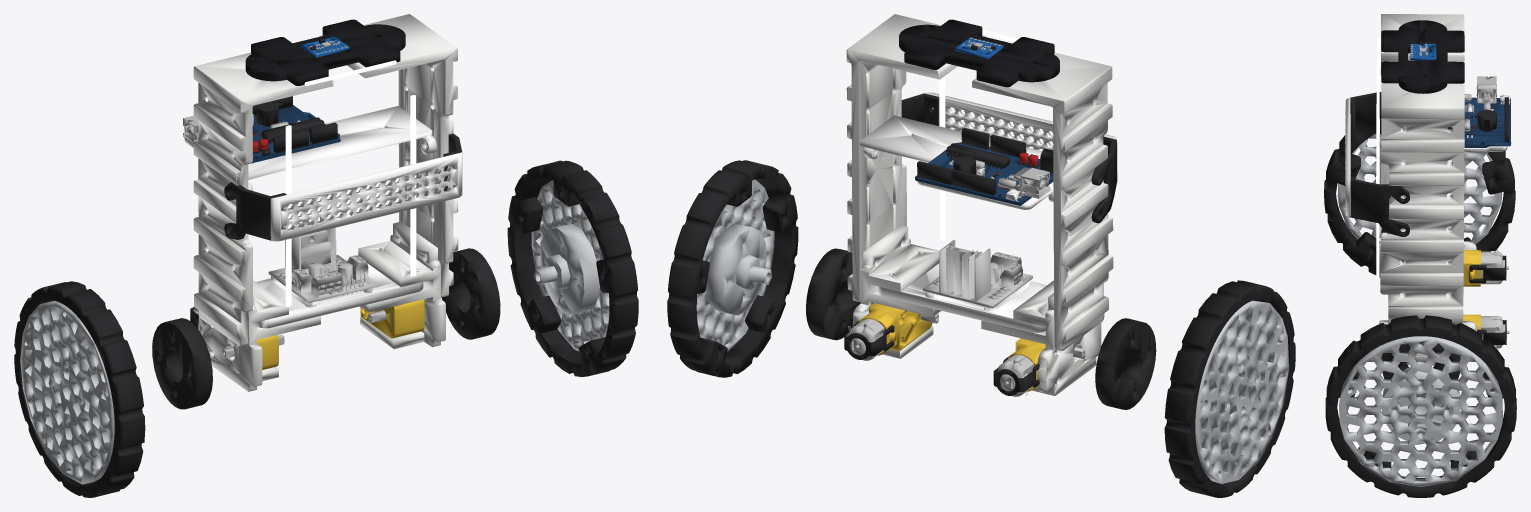
Rendered from robot_showcase_lod2.glb.
The picture shows the model from 3 angles, left to right: view 1: azimuth 30°, elevation 25°; view 2: azimuth 150°, elevation 25°; view 3: azimuth 270°, elevation 25°; orthographic projection. The views are drawn at different scales.
Visible parts, largest first — view 1: LOD2_Plastic_White, LOD2_Rubber_Tire, LOD2_Aluminum_Anodized, LOD2_Carbon_Fiber, LOD2_Plastic_Black, LOD2_Glass_Black, LOD2_Steel_Brushed, LOD2_Plastic_Yellow, LOD2_LED_Strip_V, LOD2_PCB_Navy; view 2: LOD2_Plastic_White, LOD2_Rubber_Tire, LOD2_Aluminum_Anodized, LOD2_Plastic_Black, LOD2_Carbon_Fiber, LOD2_Steel_Brushed, LOD2_Glass_Black, LOD2_Plastic_Yellow, LOD2_PCB_Navy, LOD2_LED_Strip_V; view 3: LOD2_Aluminum_Anodized, LOD2_Plastic_White, LOD2_Rubber_Tire, LOD2_Plastic_Black, LOD2_Glass_Black, LOD2_Steel_Brushed, LOD2_PCB_Navy, LOD2_Carbon_Fiber, LOD2_Plastic_Yellow, LOD2_LED_Strip_V, LOD2_PCB_Blue.
Part boxes in pixels (x1,y1,x2,y2): LOD2_Plastic_White: (193,14,458,391); LOD2_Rubber_Tire: (14,160,638,497); LOD2_Aluminum_Anodized: (20,180,609,484); LOD2_Carbon_Fiber: (184,106,462,328); LOD2_Plastic_Black: (152,38,500,409); LOD2_Glass_Black: (245,19,405,85); LOD2_Steel_Brushed: (183,41,386,358); LOD2_Plastic_Yellow: (257,299,424,369); LOD2_LED_Strip_V: (285,95,416,306); LOD2_PCB_Navy: (252,105,340,163); LOD2_Plastic_White: (846,14,1113,395); LOD2_Rubber_Tire: (667,160,1295,497); LOD2_Aluminum_Anodized: (696,179,1289,483); LOD2_Plastic_Black: (806,45,1156,409); LOD2_Carbon_Fiber: (860,92,1117,332); LOD2_Steel_Brushed: (846,37,1085,396); LOD2_Glass_Black: (899,19,1059,87); LOD2_Plastic_Yellow: (858,303,1045,391); LOD2_PCB_Navy: (915,142,1053,205); LOD2_LED_Strip_V: (939,76,945,240); LOD2_Aluminum_Anodized: (1337,134,1502,486); LOD2_Plastic_White: (1379,14,1493,365); LOD2_Rubber_Tire: (1324,132,1516,497); LOD2_Plastic_Black: (1350,42,1508,379); LOD2_Glass_Black: (1381,20,1464,93); LOD2_Steel_Brushed: (1400,43,1509,349); LOD2_PCB_Navy: (1464,97,1511,147); LOD2_Carbon_Fiber: (1345,97,1507,217); LOD2_Plastic_Yellow: (1463,250,1480,329); LOD2_LED_Strip_V: (1376,64,1379,278); LOD2_PCB_Blue: (1410,43,1436,60).
Size of the model in its own units: 0.324 by 0.2285 by 0.1176.
